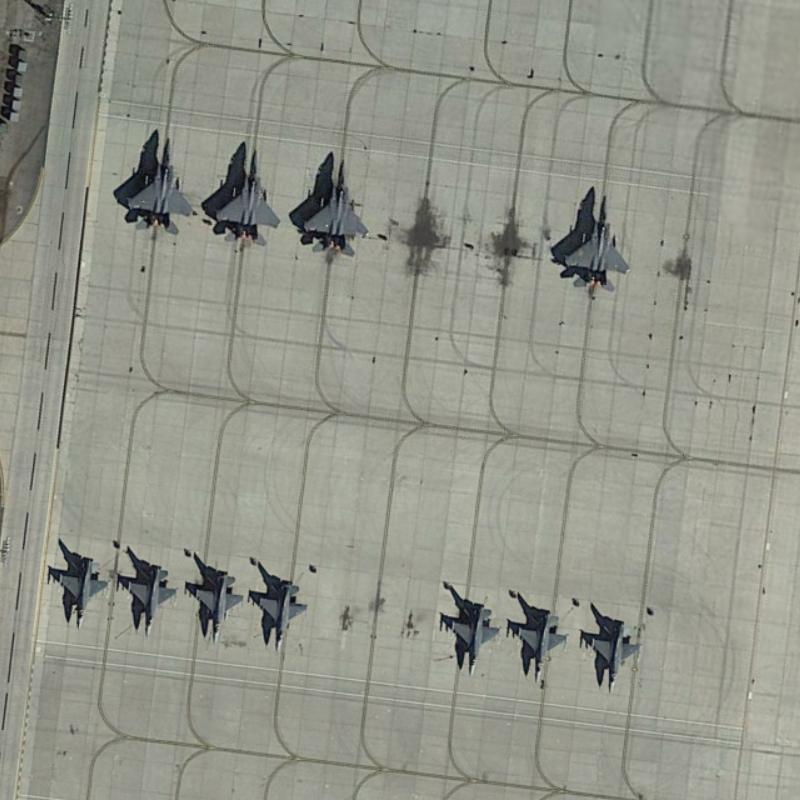A13: (548, 181, 637, 299), (111, 125, 200, 242), (292, 149, 377, 266), (199, 138, 284, 254)
A5: (575, 605, 645, 699), (509, 593, 574, 686), (117, 551, 182, 643), (48, 549, 114, 634), (440, 594, 505, 680), (186, 561, 247, 648), (250, 570, 311, 657)
